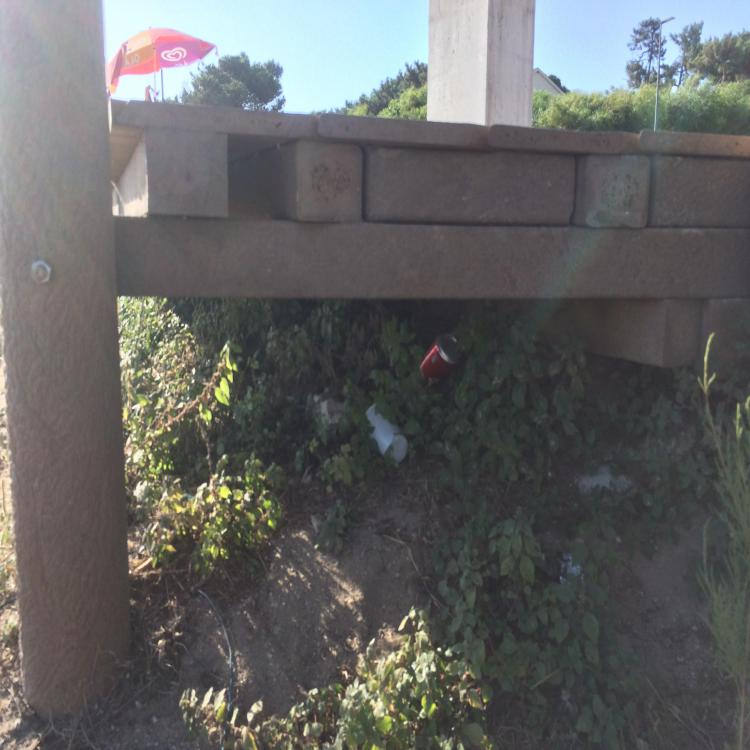Disposable plastic cup: (366, 401, 410, 463)
Drink can: (419, 332, 463, 386)
